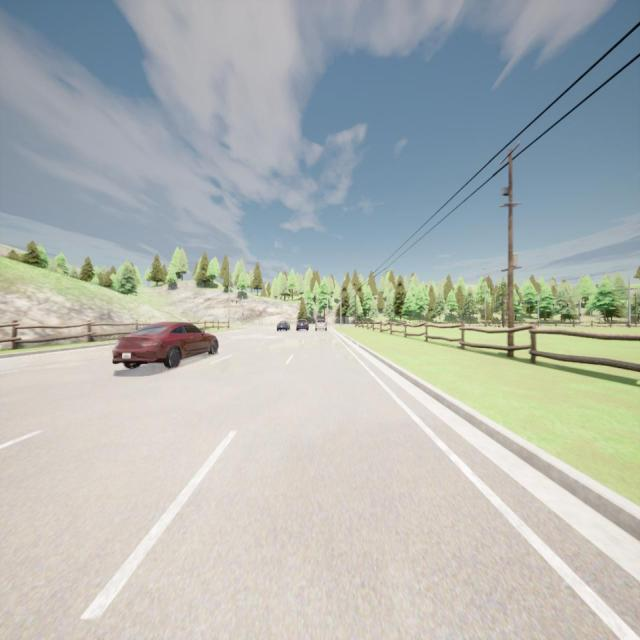Vehicle: (111, 321, 219, 368), (296, 319, 310, 331), (315, 319, 327, 331), (277, 320, 290, 331)
